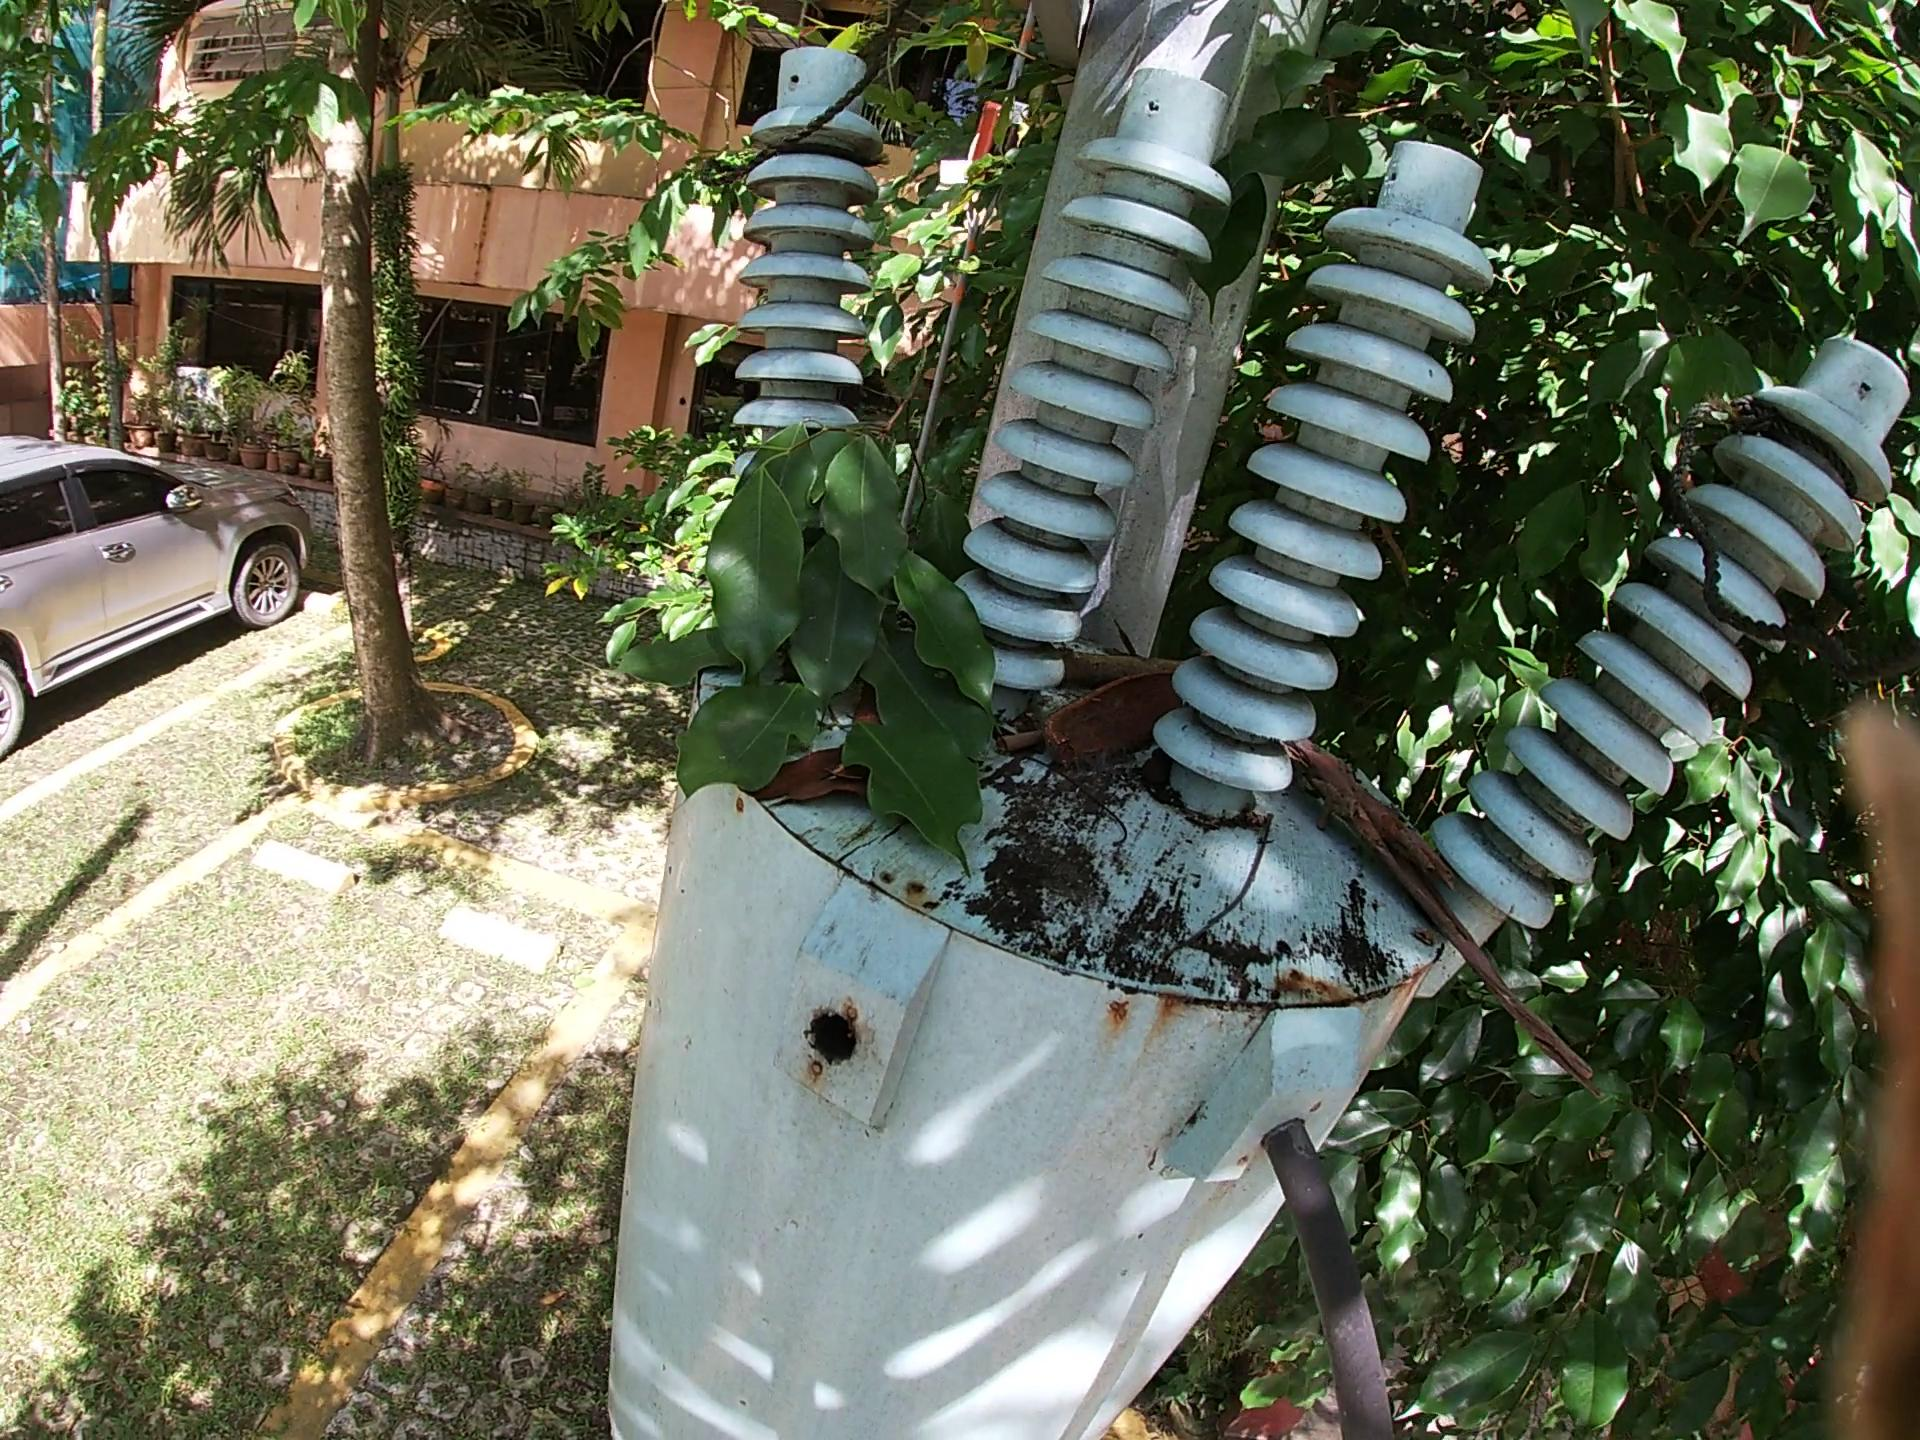branch with leaves: (609, 292, 996, 892)
mahogany fruit: (1048, 666, 1188, 765), (748, 749, 892, 809), (842, 693, 887, 722)
tree branch: (1277, 725, 1606, 1097), (1187, 788, 1265, 977), (1072, 779, 1140, 856), (1058, 644, 1197, 681), (990, 725, 1043, 750)
